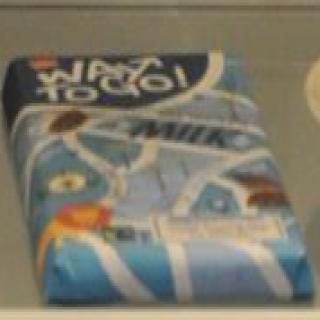chocolate: (2, 2, 320, 320)
